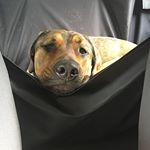puppy: (26, 27, 104, 98)
